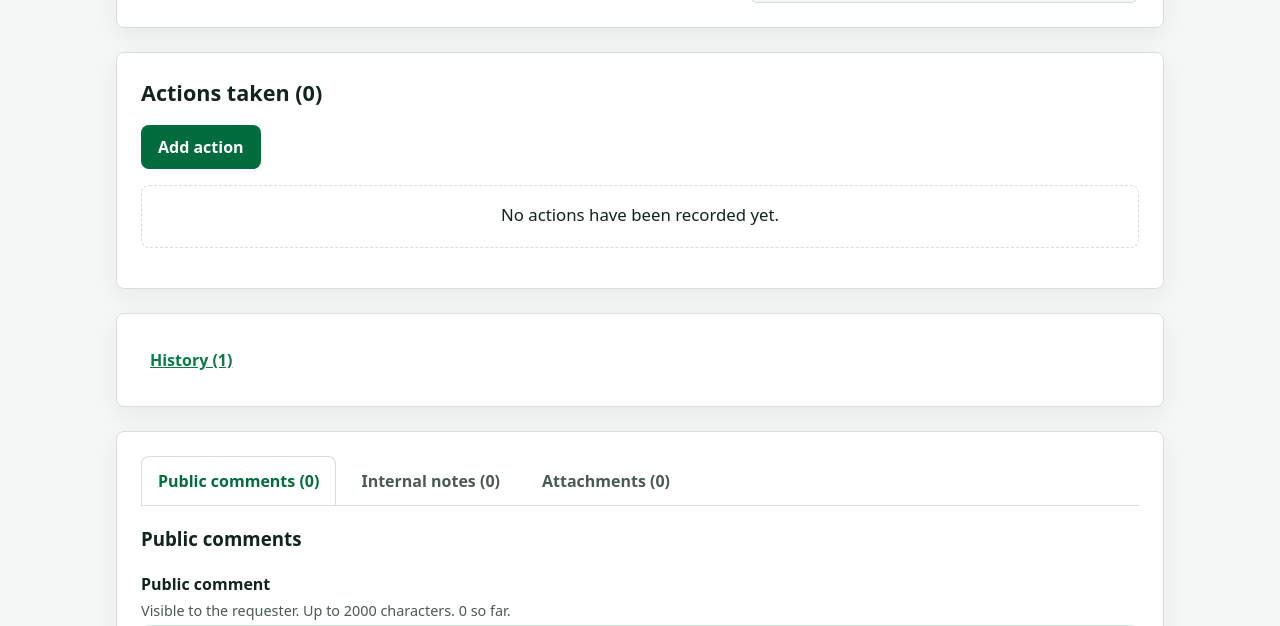
Test case: UI-04 the History disclosure › says earlier changes were not recorded only when the history does not start at creation
(page scrolled)
Click the button "History (1)" at (191, 360), box [141,338,242,382]
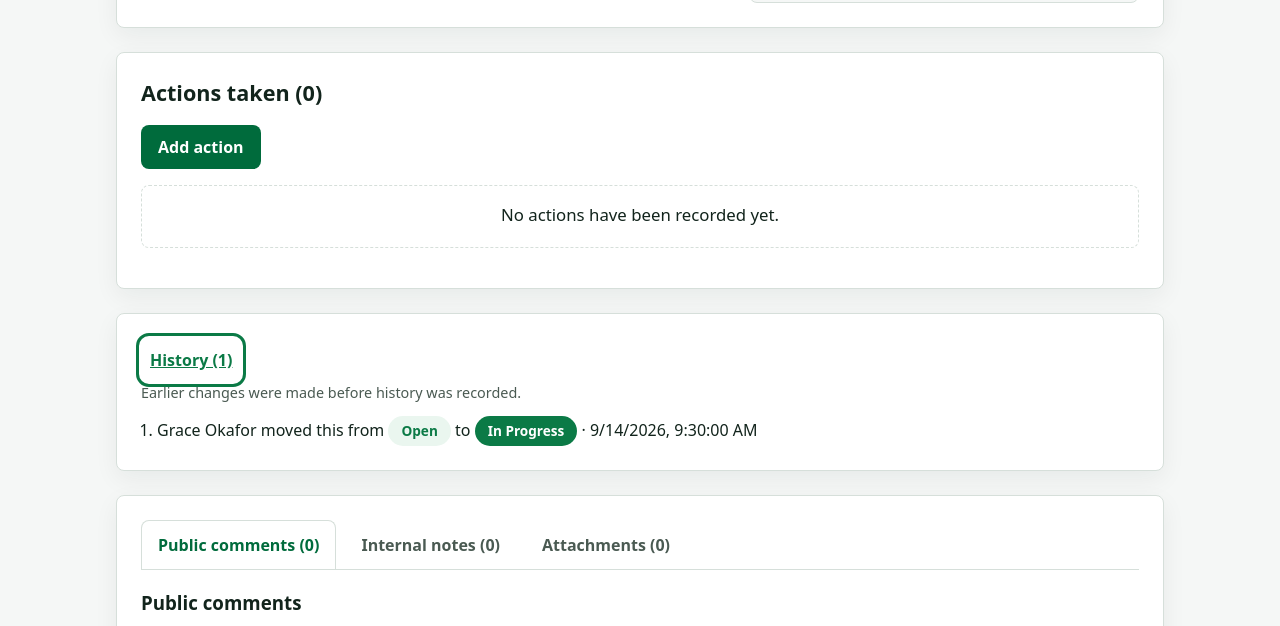
Result: the text "Earlier changes were made before history was recorded." is shown at [141,383,521,402]
